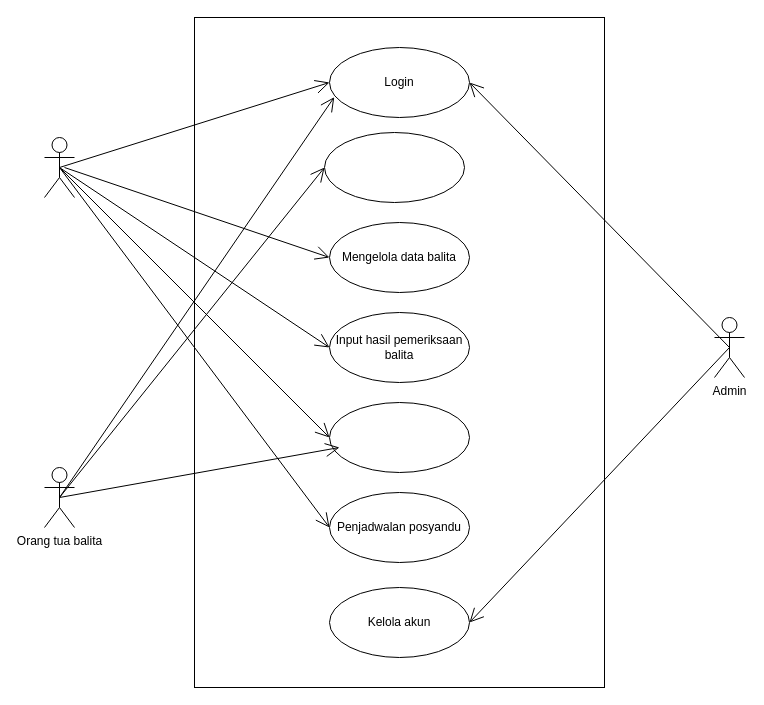
Image size: 764x705. Some labels were removed from this diagram. The centre of each missing label's shape, as x and y in pixels:
"Kader" belongs at point 59,167.
"Monitor data pemeriksaan balita" belongs at point 399,437.
"Register" belongs at point 394,167.
